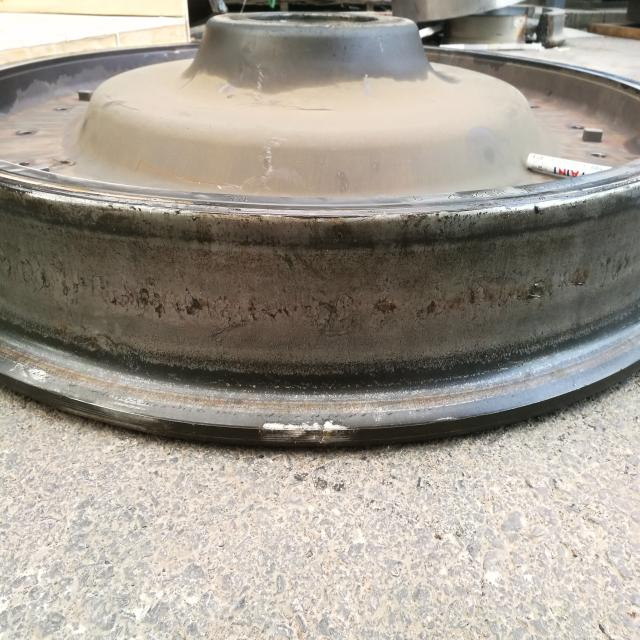Peeling: (23, 258, 92, 299), (115, 290, 205, 320), (262, 305, 342, 323), (469, 285, 510, 310), (528, 282, 548, 304), (416, 300, 437, 320), (374, 298, 398, 315), (572, 268, 590, 288)
